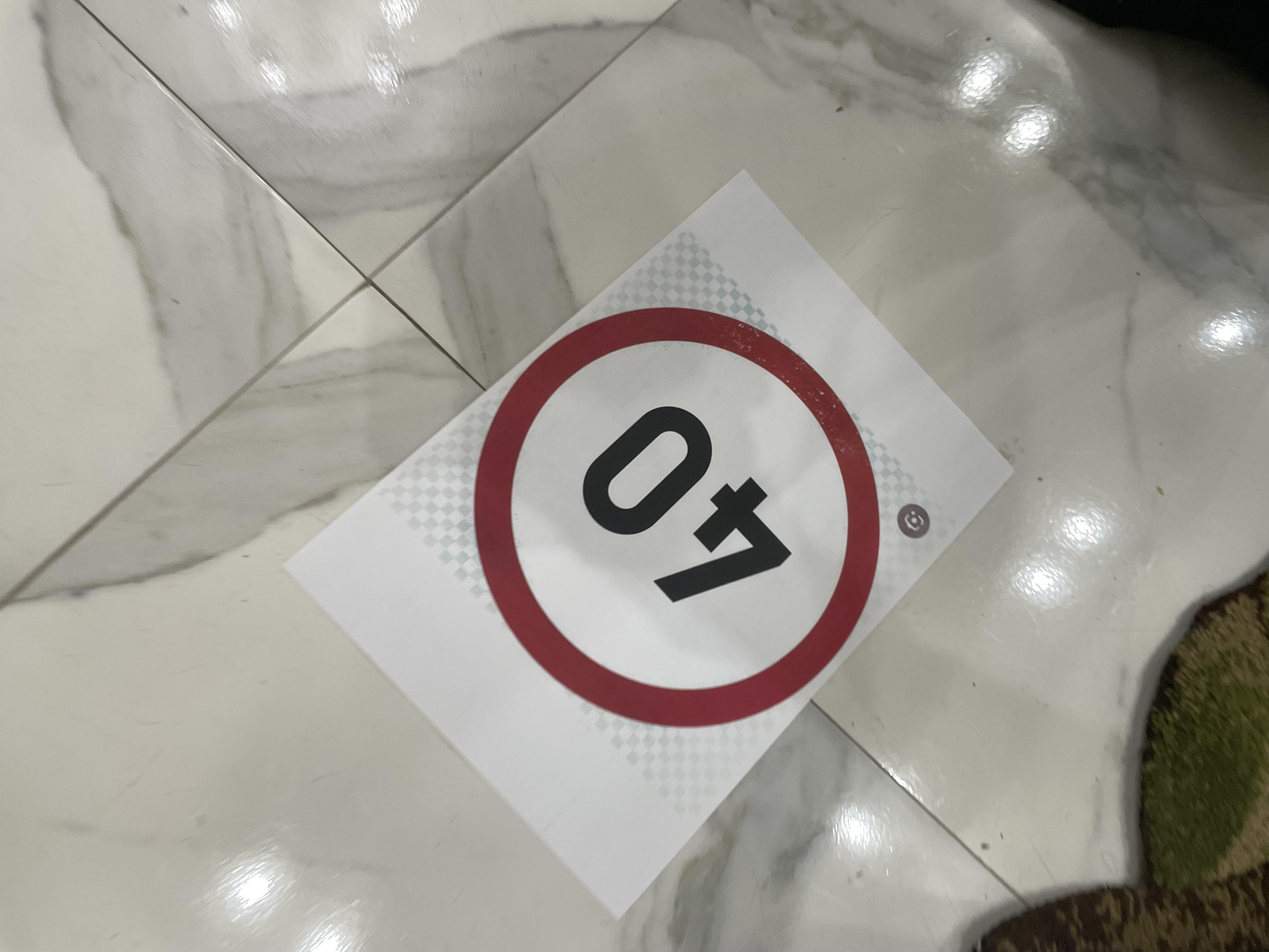40-Speed: (408, 293, 966, 592)
